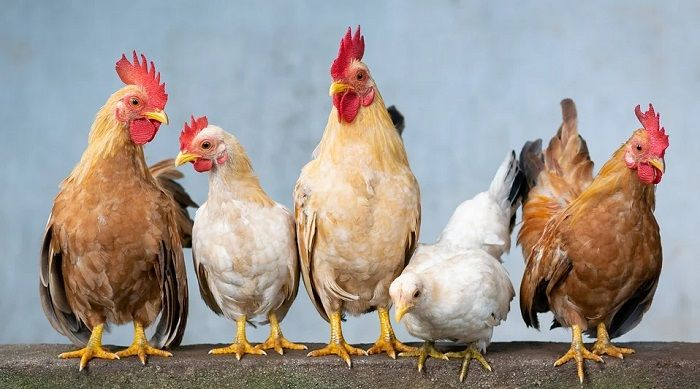ayam: (34, 46, 182, 375), (510, 86, 677, 373), (303, 20, 422, 372), (185, 96, 308, 375), (386, 126, 515, 382)
